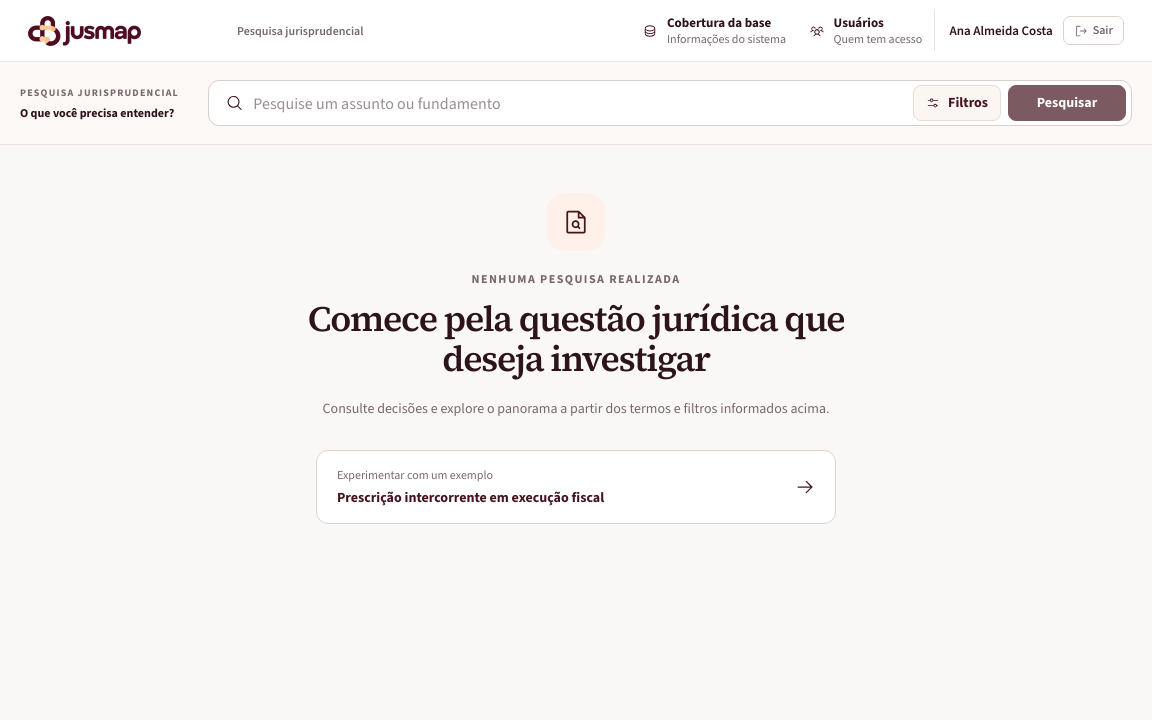
a result › opens the decision it names, even when another shares its case number
In the search field named "Pesquisar decisões": {"x": 578, "y": 103} top-left (253, 85), bottom-right (903, 121), type "prescrição intercorrente em execução fiscal"
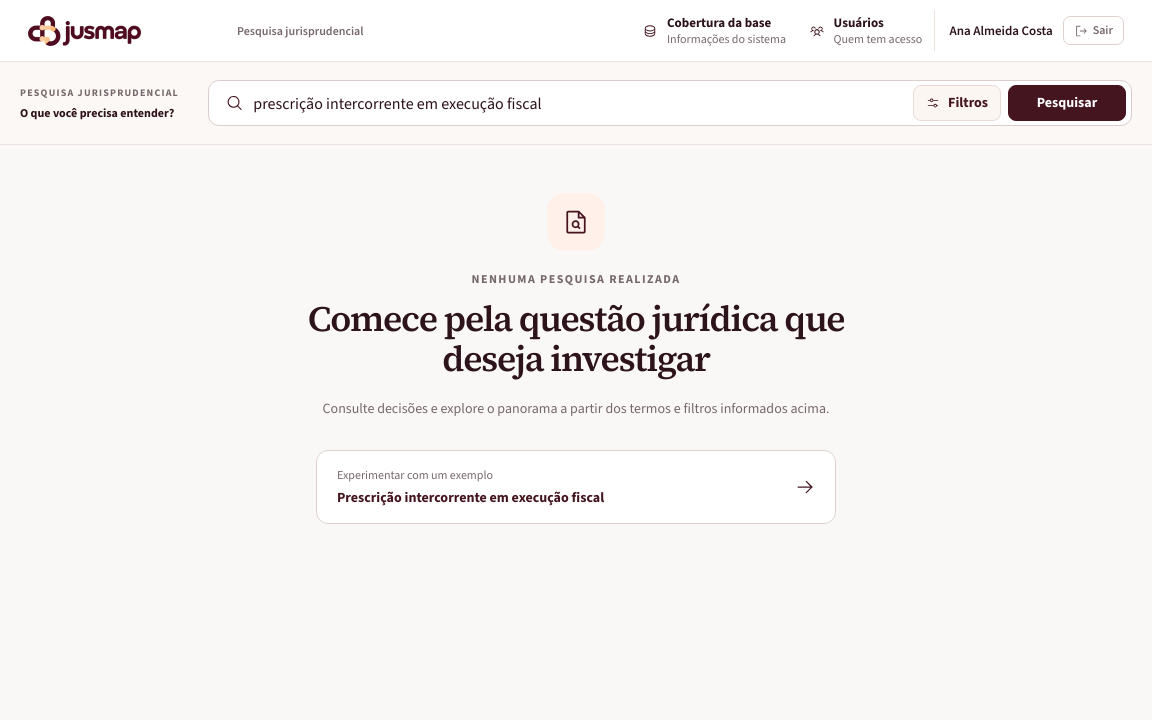
Click the button "Pesquisar": {"x": 1067, "y": 103} top-left (1008, 85), bottom-right (1126, 121)
(page scrolled)
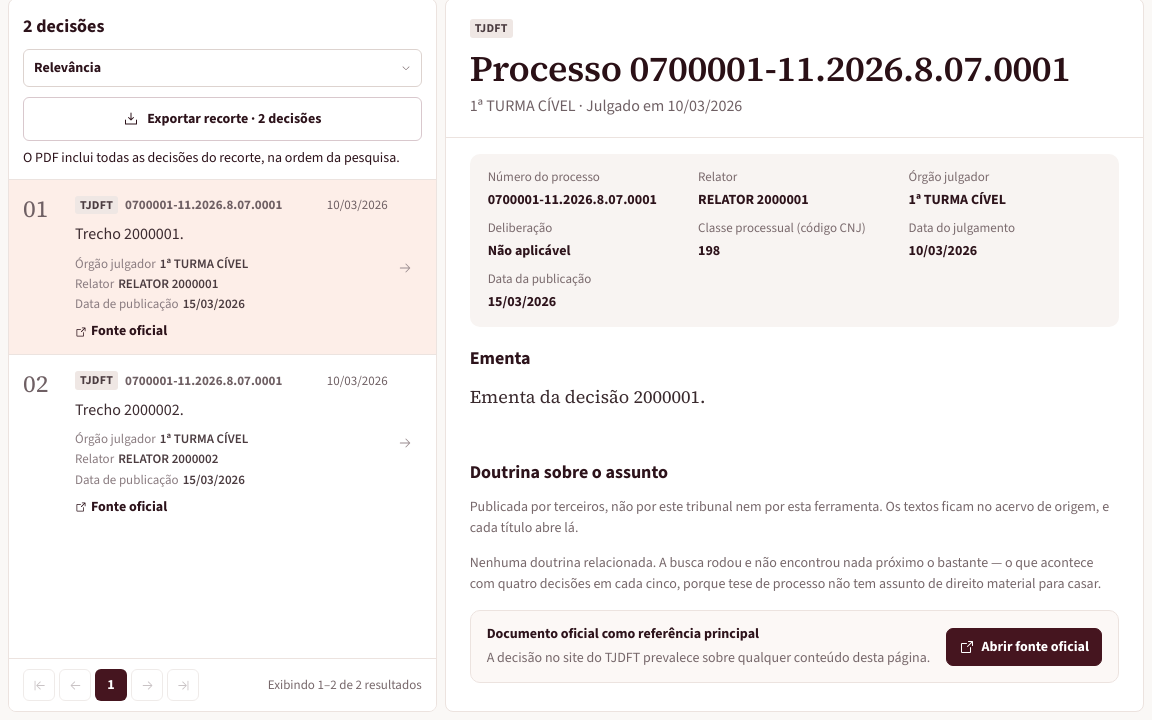
Click the link named "Ler a decisão" in the row of "RELATOR 2000002": {"x": 185, "y": 365} top-left (8, 354), bottom-right (362, 375)
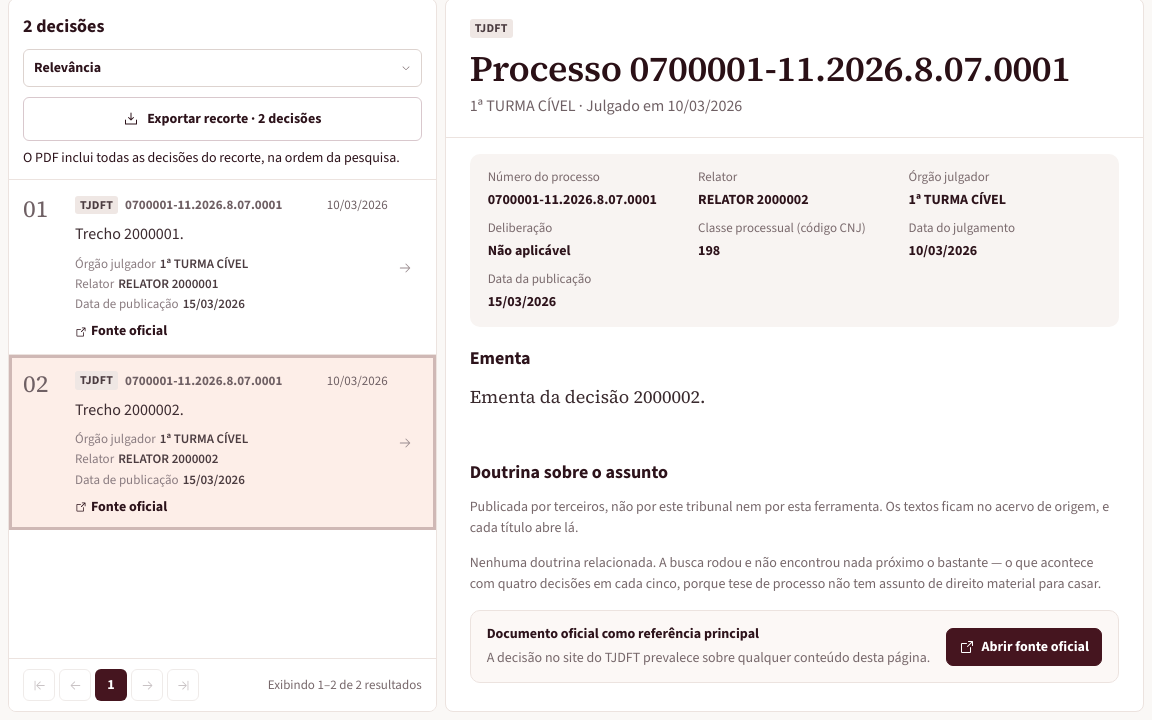
Result: the text "RELATOR 2000002" is shown at top-left (698, 190), bottom-right (809, 209)
